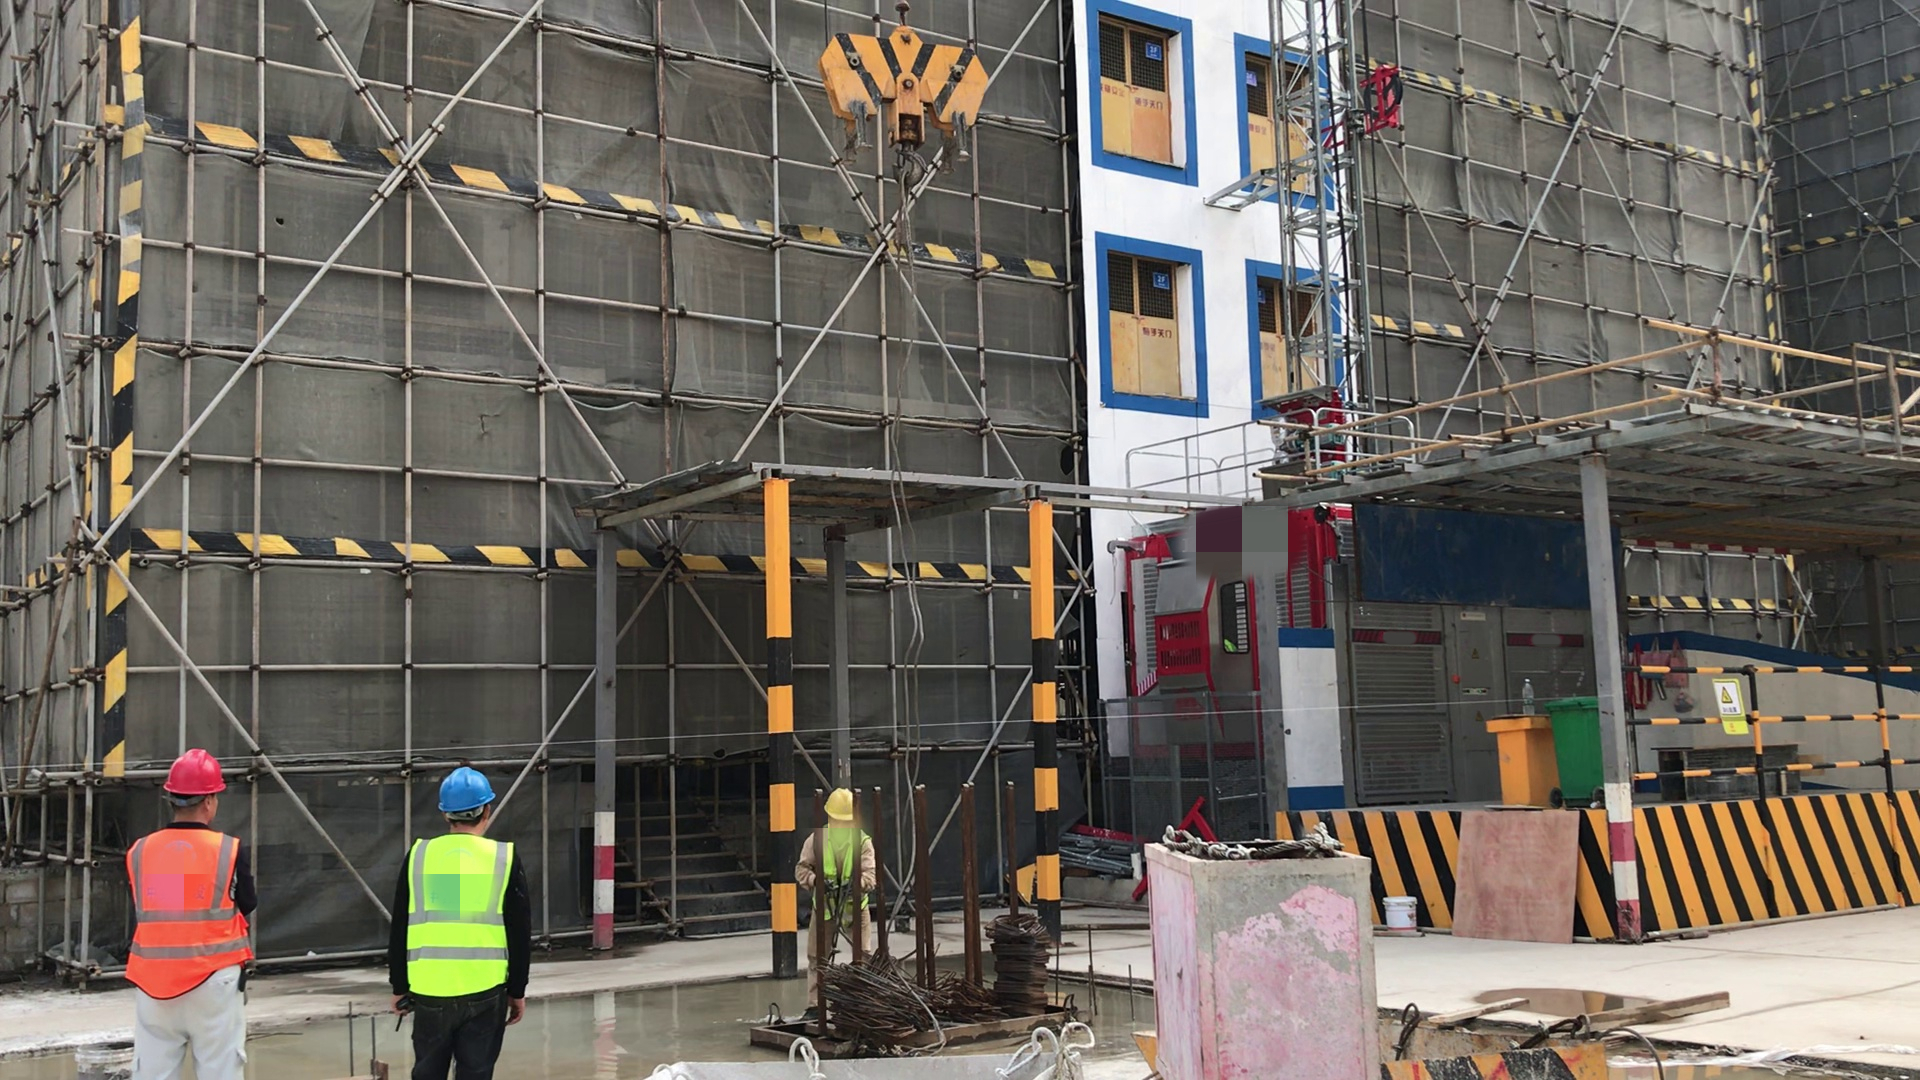ebox: (1494, 716, 1561, 801)
helmet: (161, 751, 227, 795), (440, 766, 492, 811), (821, 789, 859, 820)
hook: (824, 10, 990, 185)
hopper: (1362, 997, 1618, 1080)
person: (117, 750, 256, 1080), (389, 772, 529, 1080), (792, 785, 879, 1031)
slogan: (1712, 677, 1748, 737)
vest: (127, 837, 242, 991), (408, 834, 513, 993), (816, 837, 852, 924)
